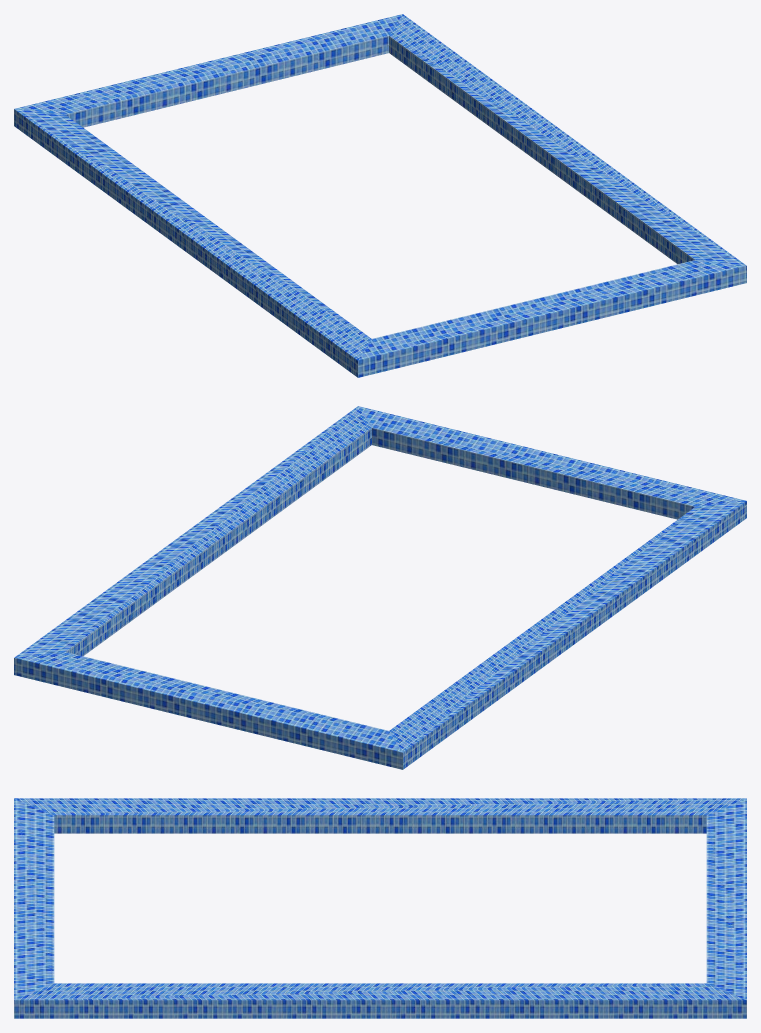
The model's file is be_boi_1.glb.
3 renders of one model, top to bottom at view 1: azimuth 30°, elevation 25°; view 2: azimuth 150°, elevation 25°; view 3: azimuth 270°, elevation 25°, orthographic. The views are drawn at different scales.
Parts seen in each view (by area): view 1: ThNG436_B?_boi; view 2: ThNG436_B?_boi; view 3: ThNG436_B?_boi.
Boxes of the visible parts, bbox=[...] form: ThNG436_B?_boi: bbox=[14, 14, 746, 377]; ThNG436_B?_boi: bbox=[14, 406, 746, 769]; ThNG436_B?_boi: bbox=[14, 798, 746, 1018].
Size of the model in its own units: 11.86 by 0.5 by 18.17.
Materials: 1 (1 with a texture image).
